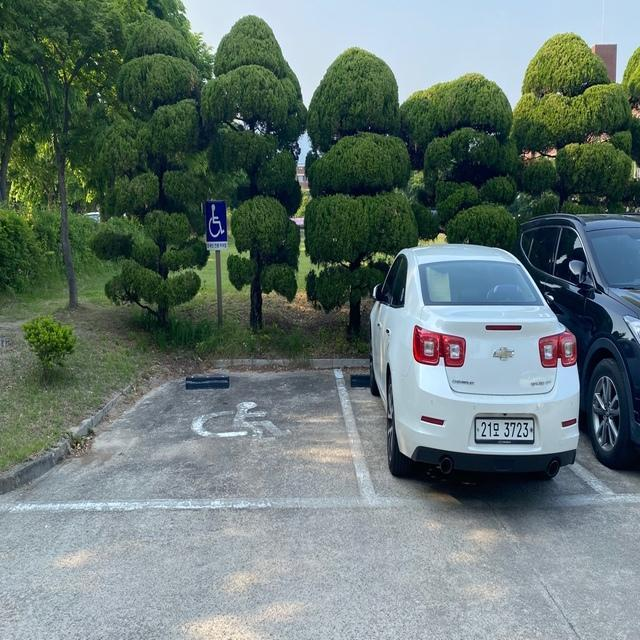Car: (363, 245, 585, 484)
Vacant: (6, 361, 384, 512)
